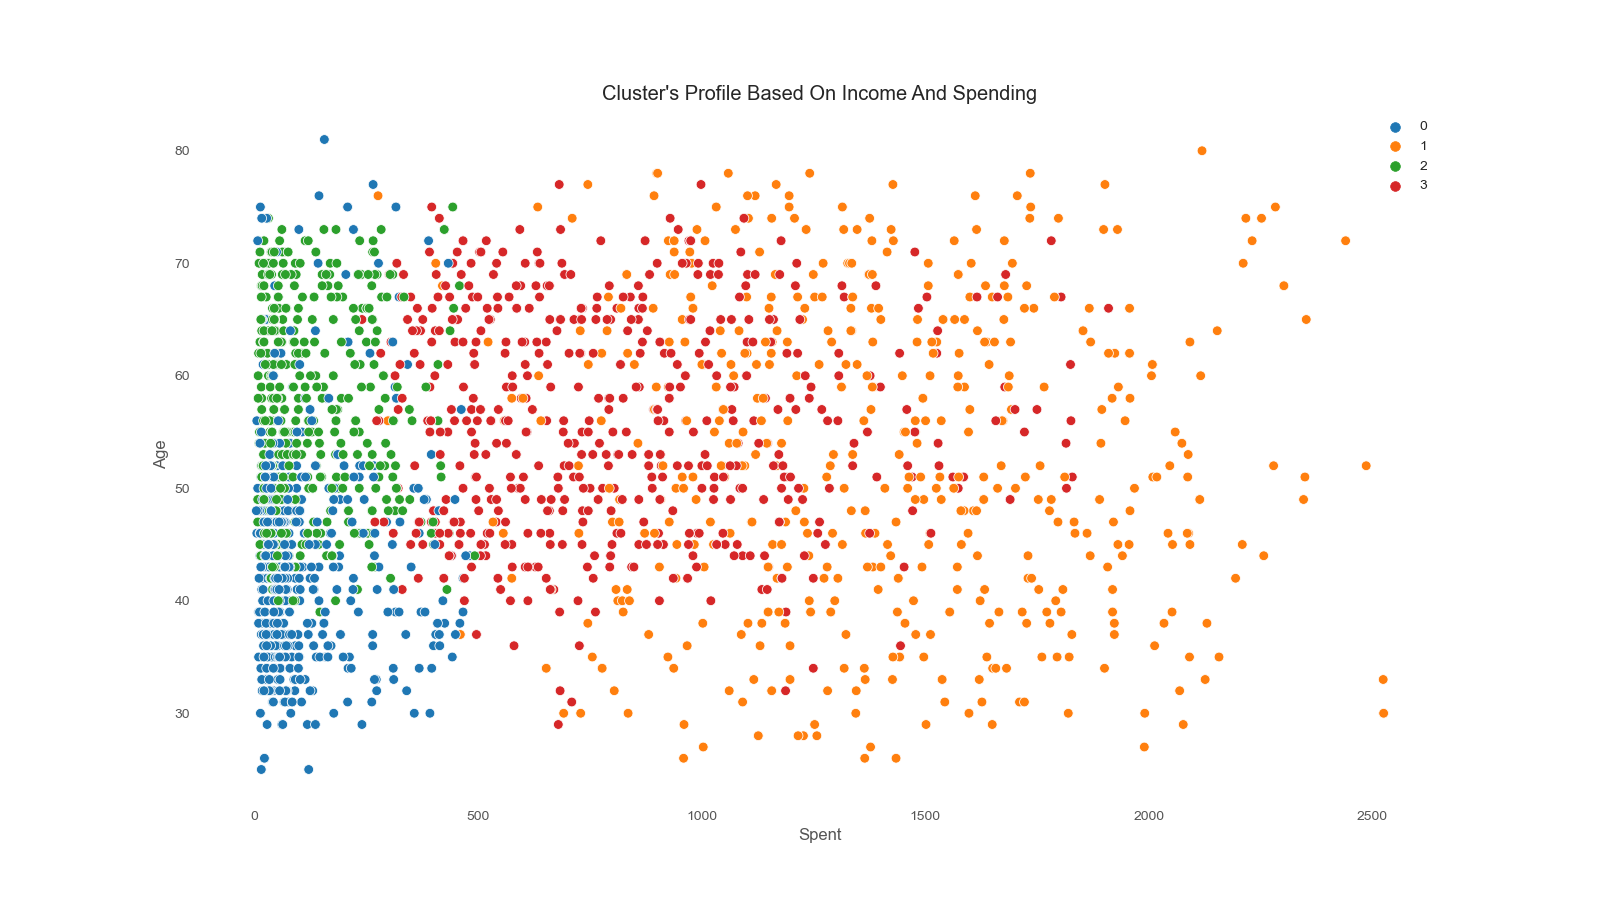

The page's visual inventory and layout, read from the dashboard file:
{"tool":"powerbi","page":{"name":"Page 1","canvas":[1280,720],"ordinal":2},"visuals":[{"type":"pythonVisual","fields":{"Values":["Global YouTube Statistics.channel_type","Sum(Global YouTube Statistics.uploads)","Global YouTube Statistics.Creation Date.Variation.Date Hierarchy.Year"]},"box":[85.3,48.1,1064.7,622],"z":0}]}

Visuals, with their boxes in screenshot pixels (x1, y1, x2, y2), scaled from the page's 1280x720 canvas onto the 1600x900 screenshot:
pythonVisual - Global YouTube Statistics.channel_type x Sum(Global YouTube Statistics.uploads): x1=107, y1=60, x2=1438, y2=838
